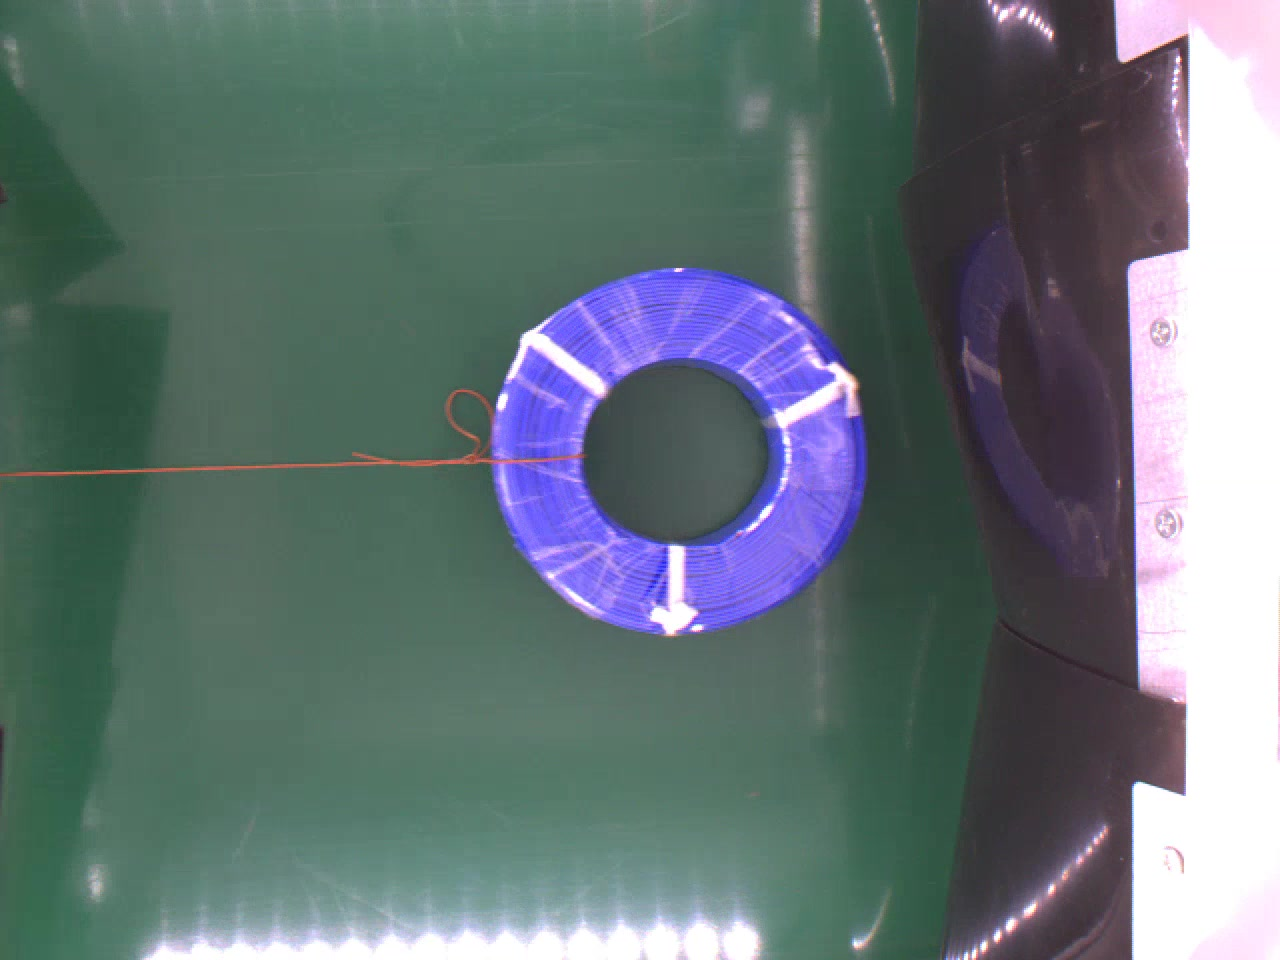blue: (489, 267, 871, 639)
